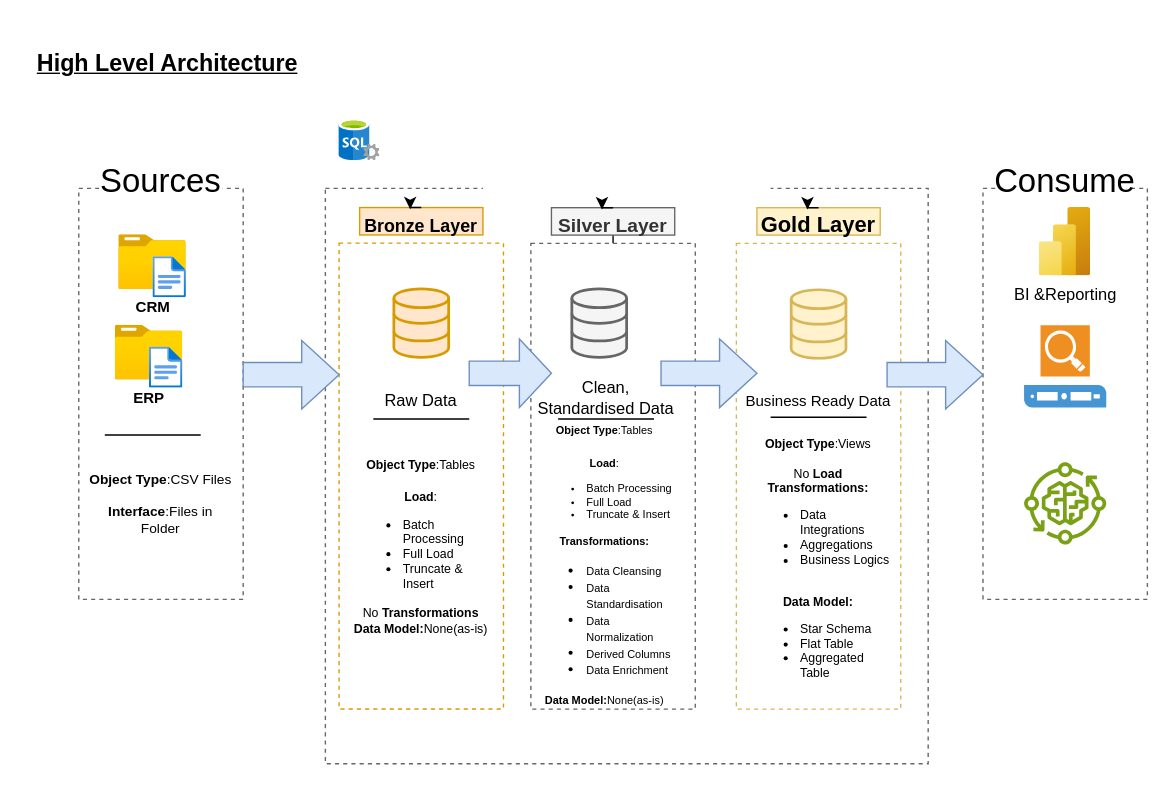
Image size: 1171x788. Some labels were removed from this diagram. The shapes that lost their labels are listed below. From the top down, each one's centre as x and y in pixels, then its label:
(x=358, y=139): SSMS
(x=626, y=181): Data Warehouse
(x=1064, y=366): Ad-Hoc SQL Queries
(x=1064, y=503): Machine Learning
